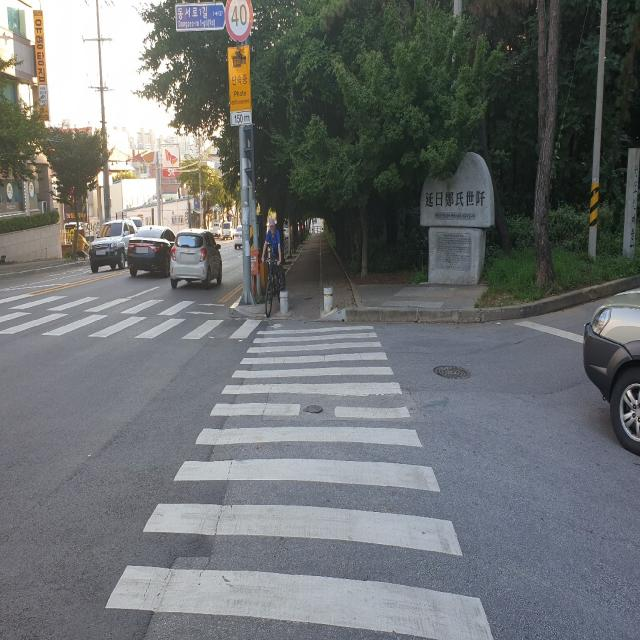횡단보도: (103, 320, 496, 639), (0, 295, 241, 336)
